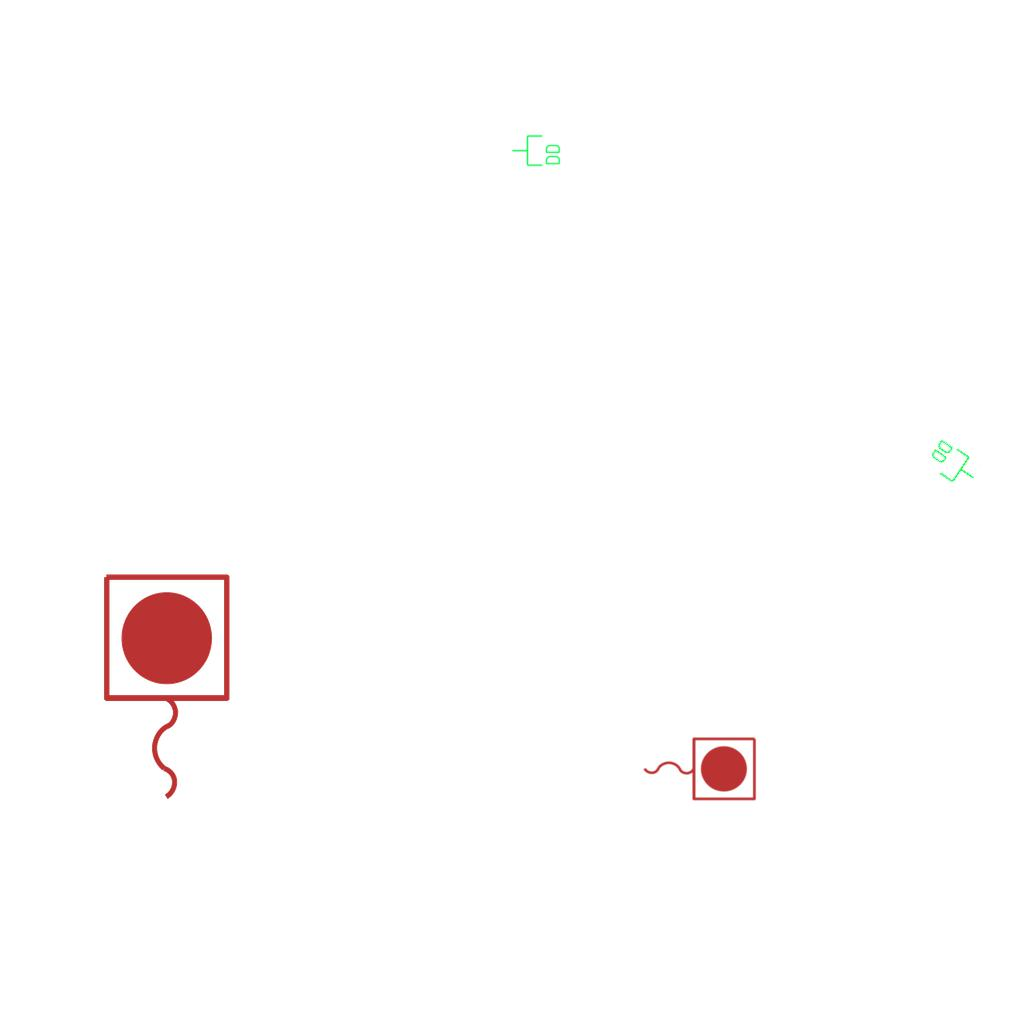Datenanschluss_zweifach: (922, 435, 985, 493), (511, 134, 562, 168)
Zugtaster: (93, 566, 237, 810), (638, 732, 760, 804)
